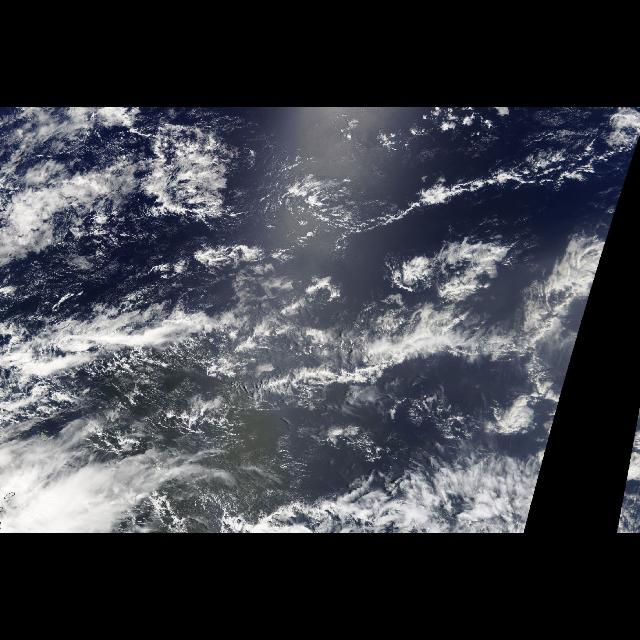Fish: (239, 194, 605, 410)
